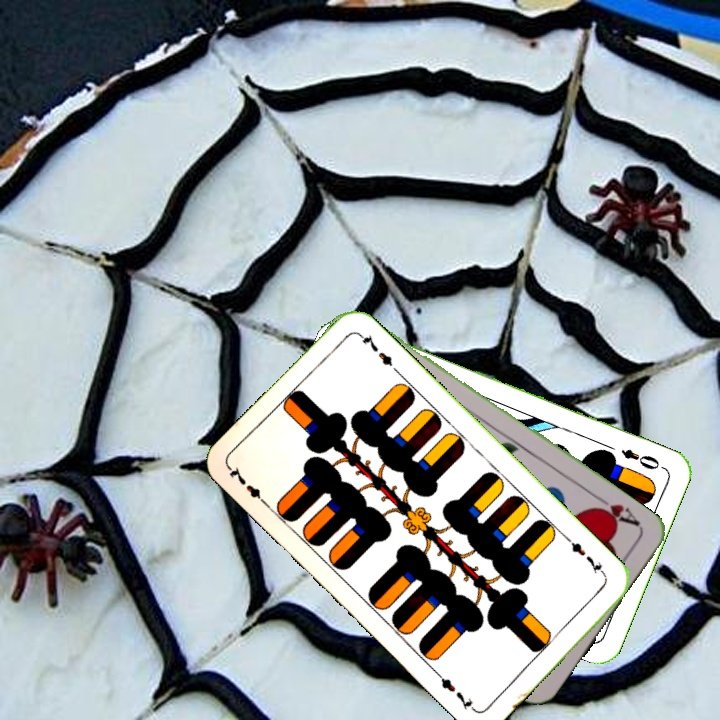E7: (225, 462, 272, 509), (562, 534, 609, 580)
EO: (617, 444, 667, 473)
HA: (589, 491, 644, 532)
